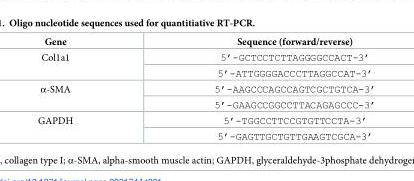table: (37, 36, 375, 141)
table column: (142, 36, 375, 141), (37, 36, 142, 141)
table column header: (37, 36, 375, 48)
table row: (37, 48, 375, 65), (37, 80, 375, 96), (37, 96, 375, 112), (37, 112, 375, 128), (37, 65, 375, 80), (37, 128, 375, 141), (37, 36, 375, 48)
table spanning cell: (37, 48, 142, 80), (37, 80, 142, 112), (37, 112, 142, 141)
